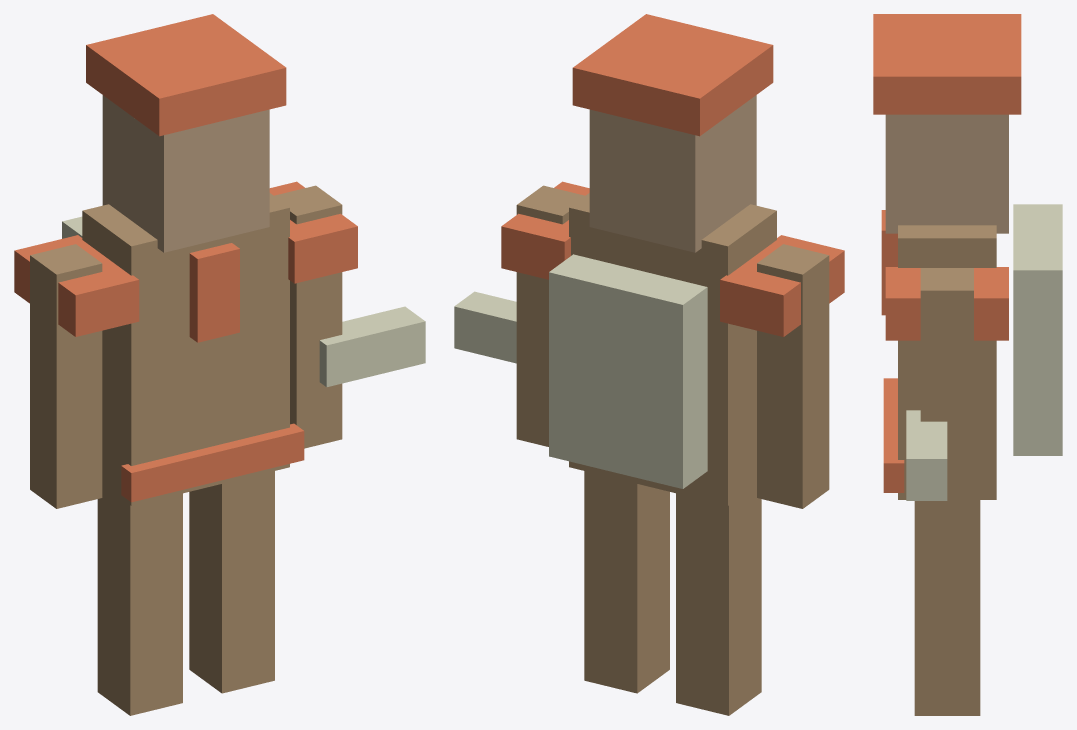
File: 04_maven_cinderholt_cartographer_from.glb
The picture shows the model from 3 angles, left to right: view 1: azimuth 30°, elevation 25°; view 2: azimuth 150°, elevation 25°; view 3: azimuth 270°, elevation 25°; orthographic projection.
Visible parts, largest first — view 1: Maven Cinderholt, Cartographer from; view 2: Maven Cinderholt, Cartographer from; view 3: Maven Cinderholt, Cartographer from.
Part boxes in pixels (x1=…): Maven Cinderholt, Cartographer from: x1=14, y1=14, x2=425, y2=715; Maven Cinderholt, Cartographer from: x1=454, y1=14, x2=844, y2=715; Maven Cinderholt, Cartographer from: x1=873, y1=14, x2=1062, y2=715.
Size of the model in its own units: 0.9633 by 1.6 by 0.4323.
